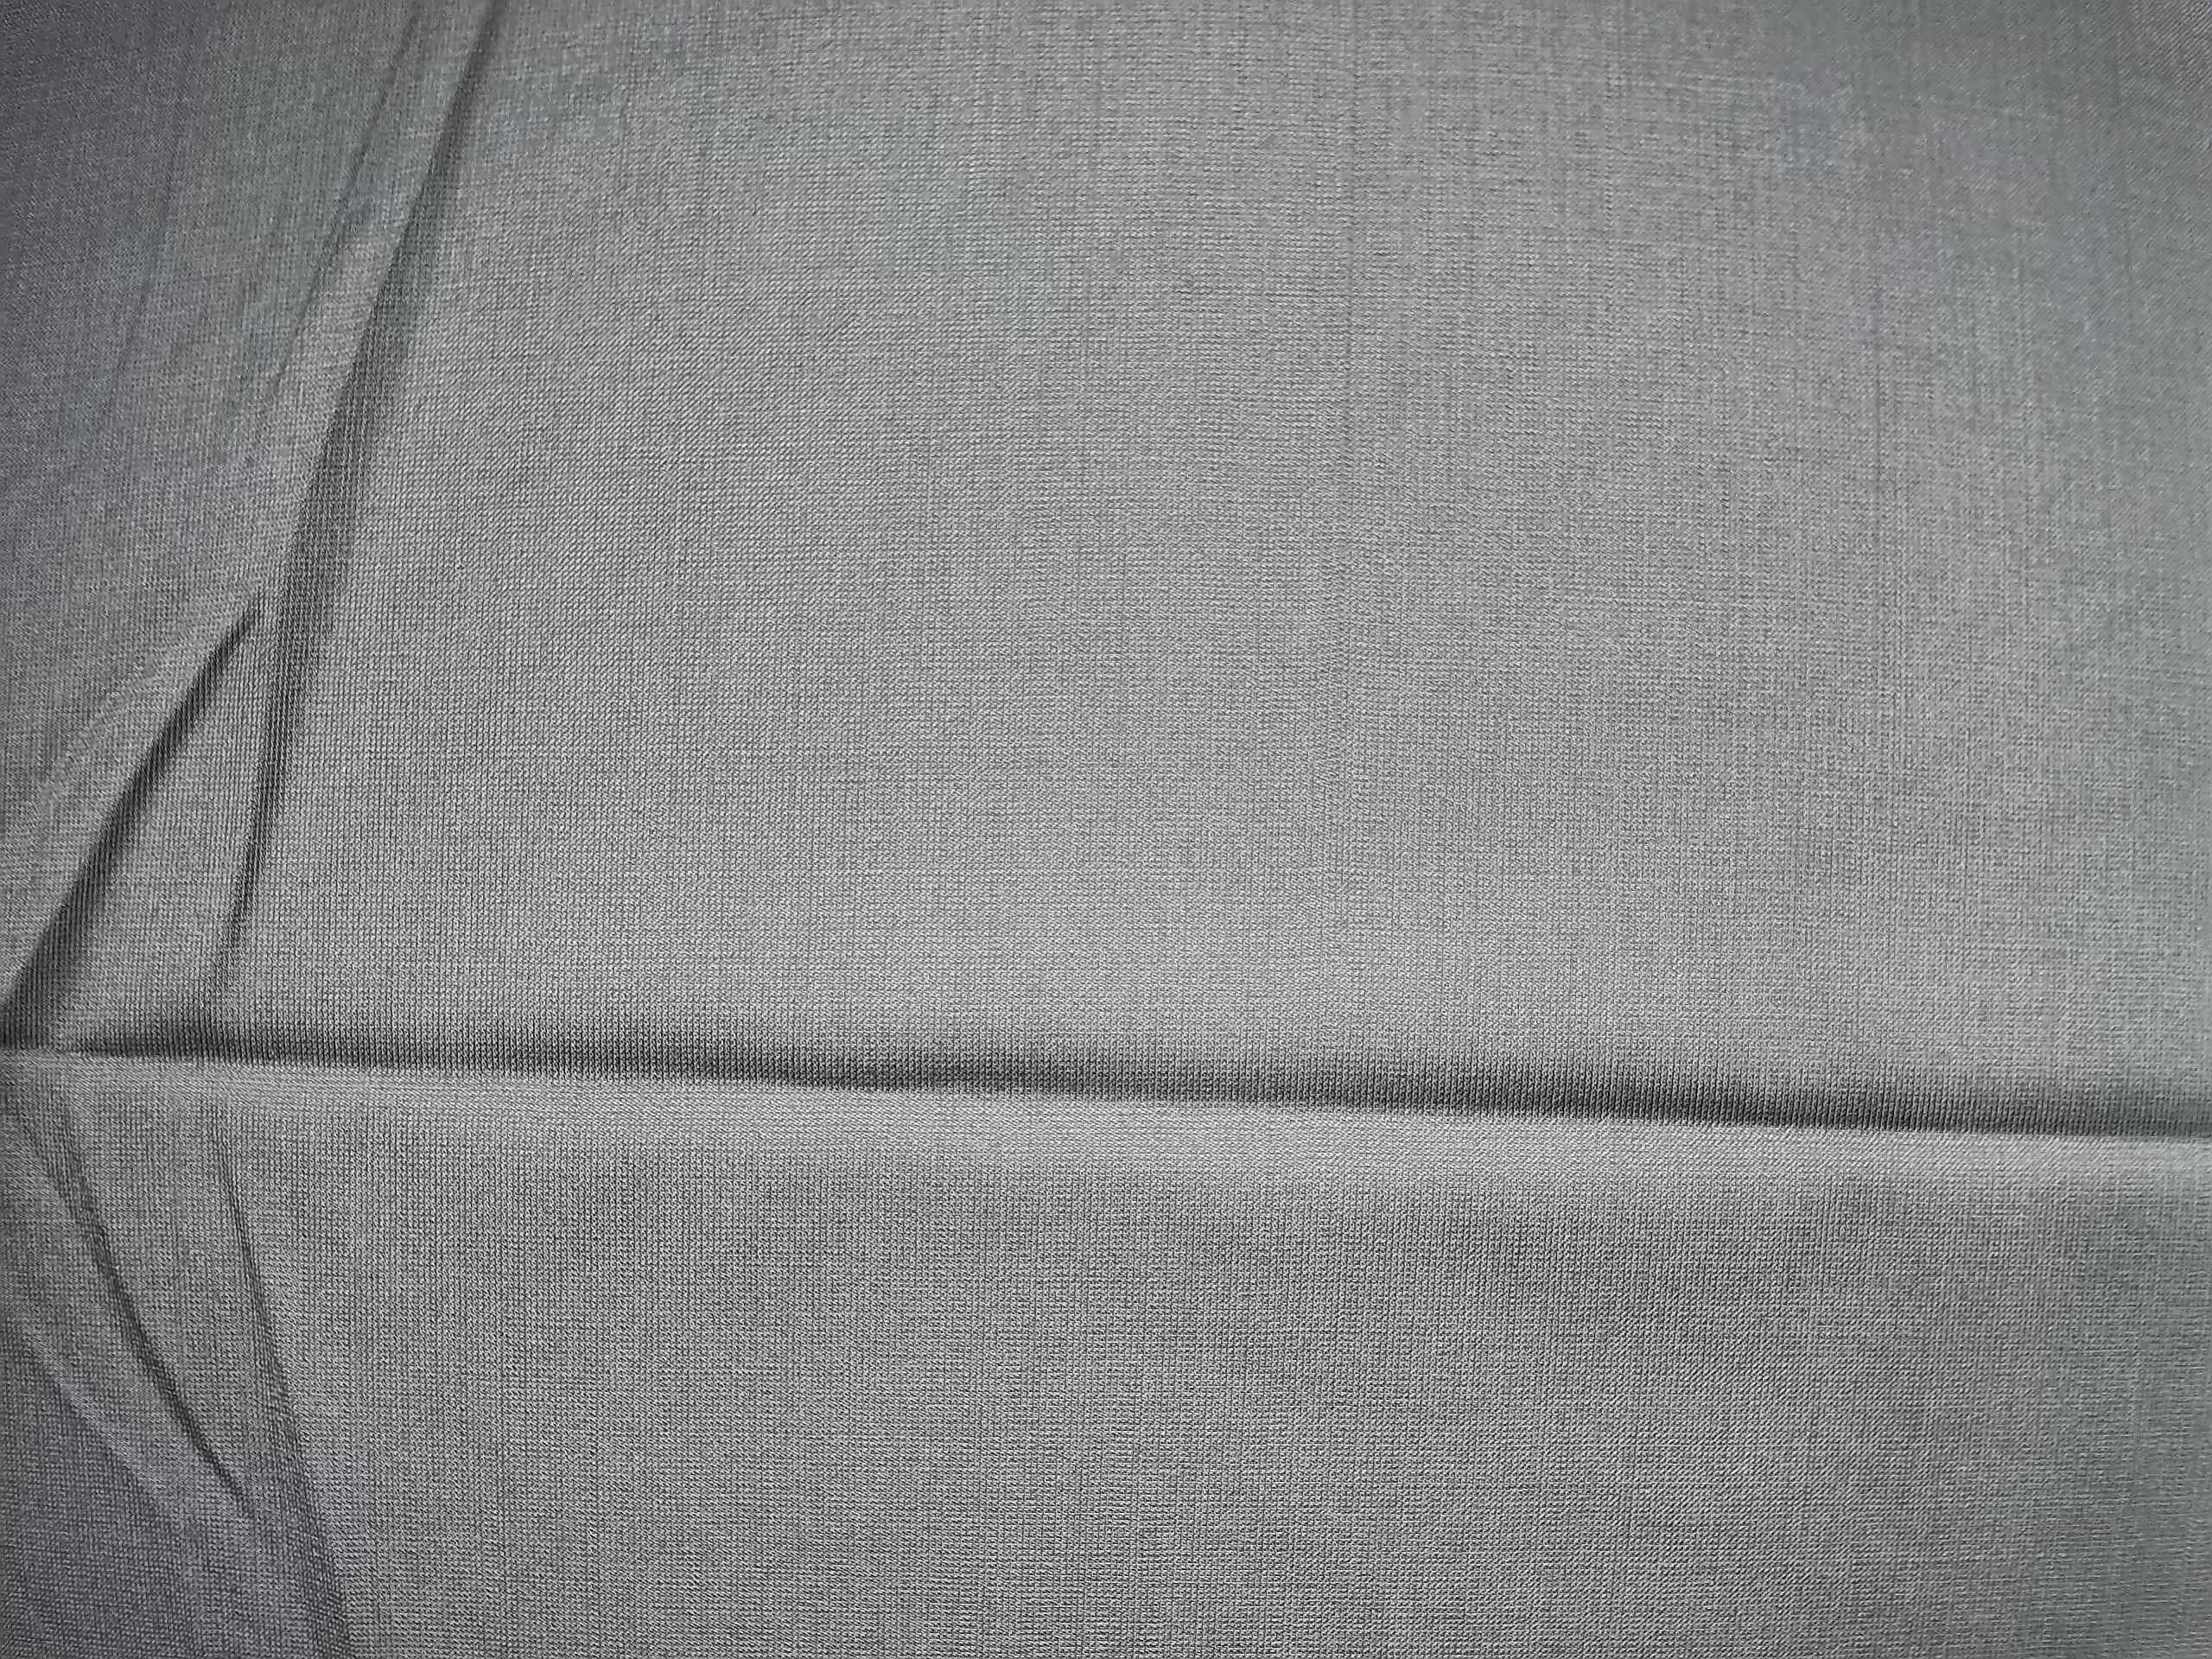hanging-warp: (1296, 335, 1369, 962)
